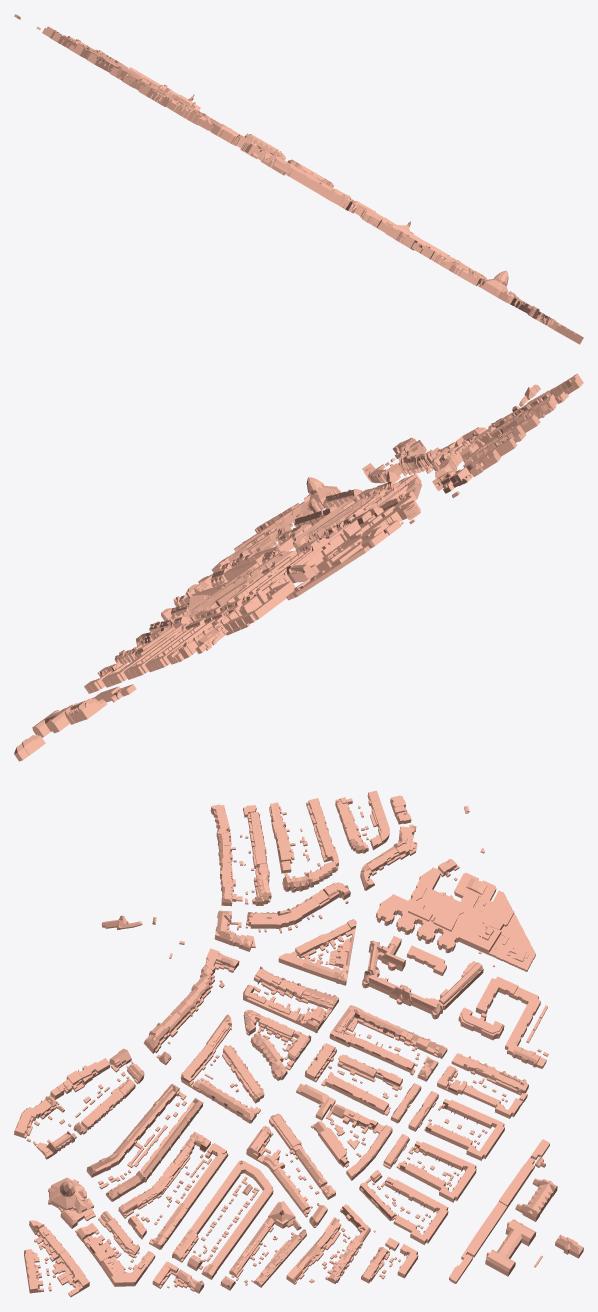
The picture shows the model from 3 angles, top to bottom: view 1: azimuth 30°, elevation 25°; view 2: azimuth 150°, elevation 25°; view 3: azimuth 270°, elevation 25°; orthographic projection. The views are drawn at different scales.
Bounding box in the file's own units: 522 × 386 × 636.
